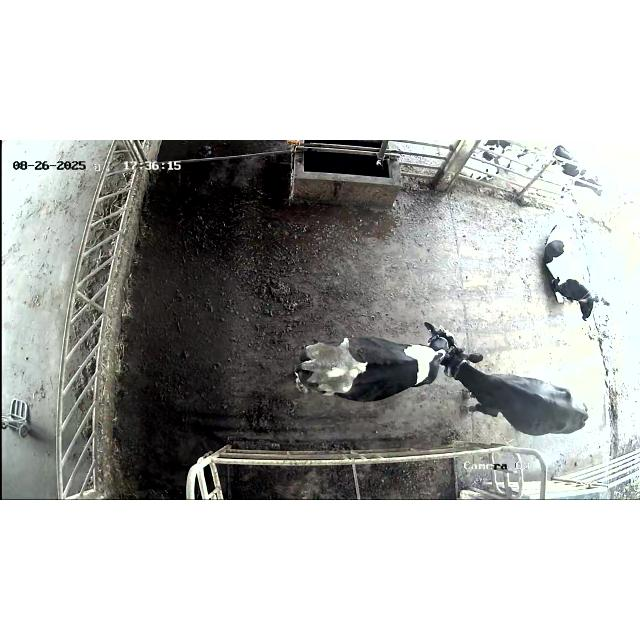stand: (294, 322, 455, 402), (441, 348, 589, 435)
